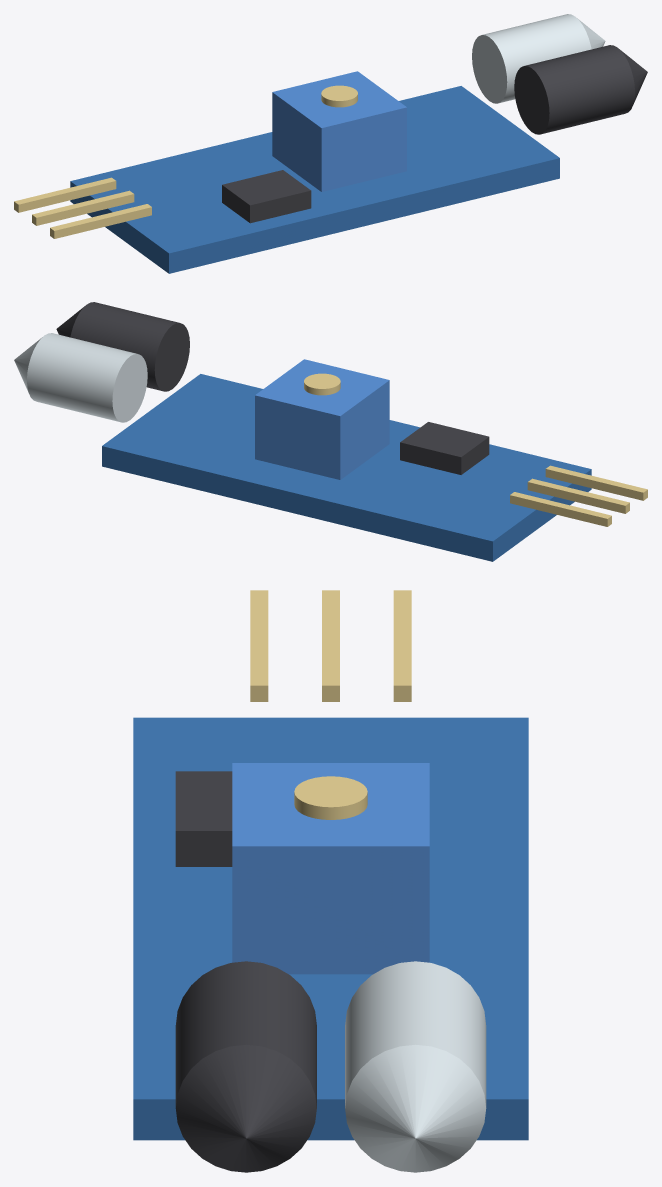
Rendered from ir-sensor.glb.
3 views of the same model, one above another, from view 1: azimuth 30°, elevation 25°; view 2: azimuth 150°, elevation 25°; view 3: azimuth 270°, elevation 25° (orthographic). The views are drawn at different scales.
Visible parts, largest first — view 1: pcb, trimmer, ir-receiver, ir-emitter, pins, comparator; view 2: pcb, trimmer, ir-emitter, ir-receiver, pins, comparator; view 3: pcb, trimmer, ir-emitter, ir-receiver, pins, comparator.
Boxes of the visible parts, x1,y1,x2,y2 form: pcb: (70, 86, 559, 273); trimmer: (272, 71, 406, 191); ir-receiver: (514, 45, 647, 134); ir-emitter: (472, 14, 605, 103); pins: (14, 177, 151, 238); comparator: (222, 170, 311, 223); pcb: (102, 374, 591, 561); trimmer: (255, 359, 389, 479); ir-emitter: (14, 333, 147, 422); ir-receiver: (56, 302, 189, 391); pins: (510, 465, 647, 526); comparator: (400, 422, 489, 474); pcb: (133, 717, 528, 1140); trimmer: (232, 763, 429, 974); ir-emitter: (345, 961, 486, 1172); ir-receiver: (175, 961, 316, 1172); pins: (250, 590, 411, 701); comparator: (175, 771, 232, 866).
Size of the model in its own units: 0.0485 by 0.0071 by 0.014.
